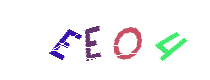0: (85, 0, 165, 80)
4: (129, 0, 209, 80)
E: (37, 0, 117, 80), (64, 0, 144, 80)
